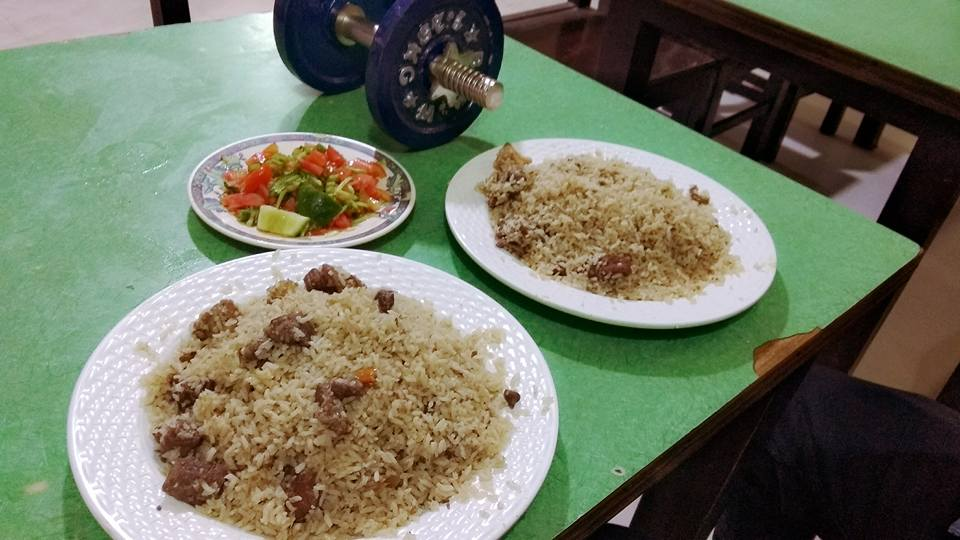tehari: (153, 268, 524, 540), (488, 143, 730, 306)
